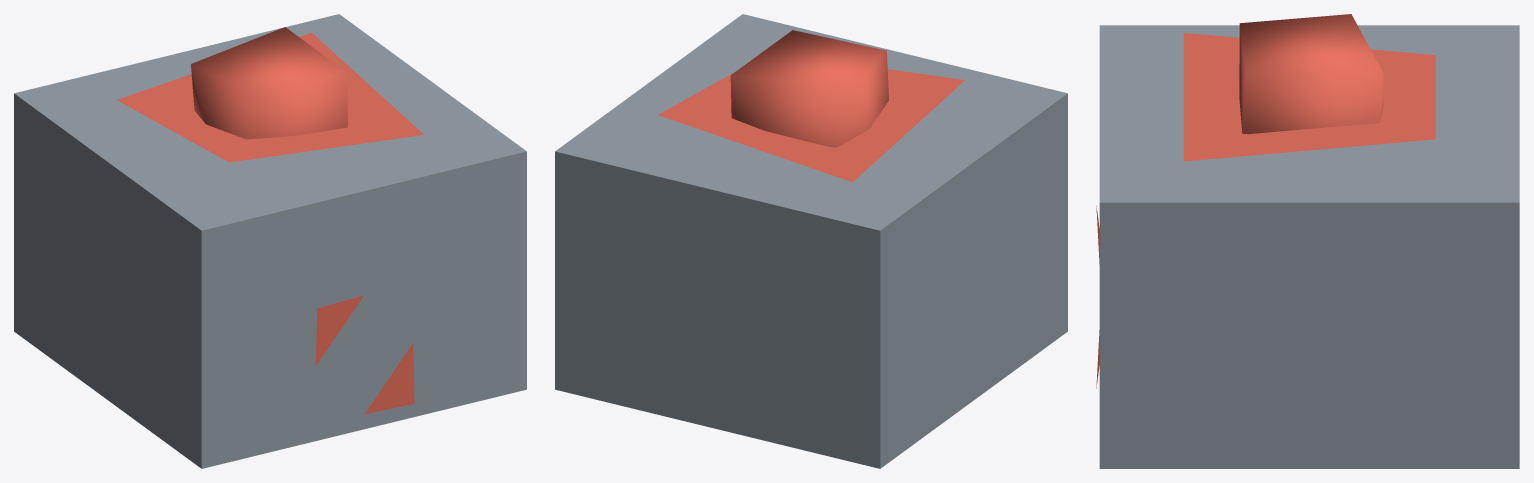
File: SU_AATurret_LOD2.glb
3 views of the same model, side by side, from view 1: azimuth 30°, elevation 25°; view 2: azimuth 150°, elevation 25°; view 3: azimuth 270°, elevation 25° (orthographic). The views are drawn at different scales.
Parts seen in each view (by area): view 1: EntranceGate; view 2: EntranceGate; view 3: EntranceGate.
Boxes of the visible parts, x1,y1,x2,y2 form: EntranceGate: [14, 14, 526, 468]; EntranceGate: [555, 14, 1067, 468]; EntranceGate: [1096, 14, 1519, 468].
Bounding box in the file's own units: 400 × 350 × 403.
